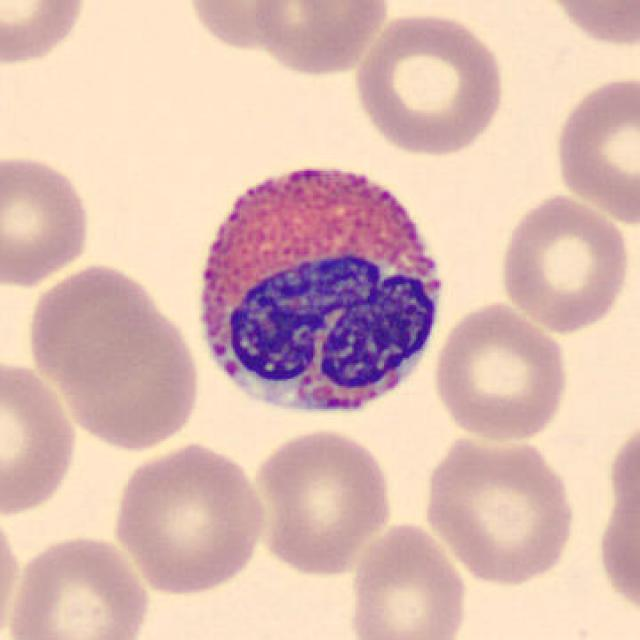Eosinophil: (179, 143, 457, 430)
RBC: (418, 427, 581, 589), (108, 437, 270, 598), (48, 286, 204, 453), (348, 8, 508, 158), (247, 425, 397, 576), (430, 298, 572, 444), (494, 190, 633, 335), (23, 259, 160, 392), (3, 530, 152, 640), (345, 520, 471, 640), (550, 70, 638, 228), (0, 148, 96, 291), (0, 356, 82, 520), (247, 0, 393, 78), (592, 411, 640, 626), (181, 0, 304, 53), (0, 0, 91, 69), (531, 0, 640, 51), (0, 497, 25, 638)
